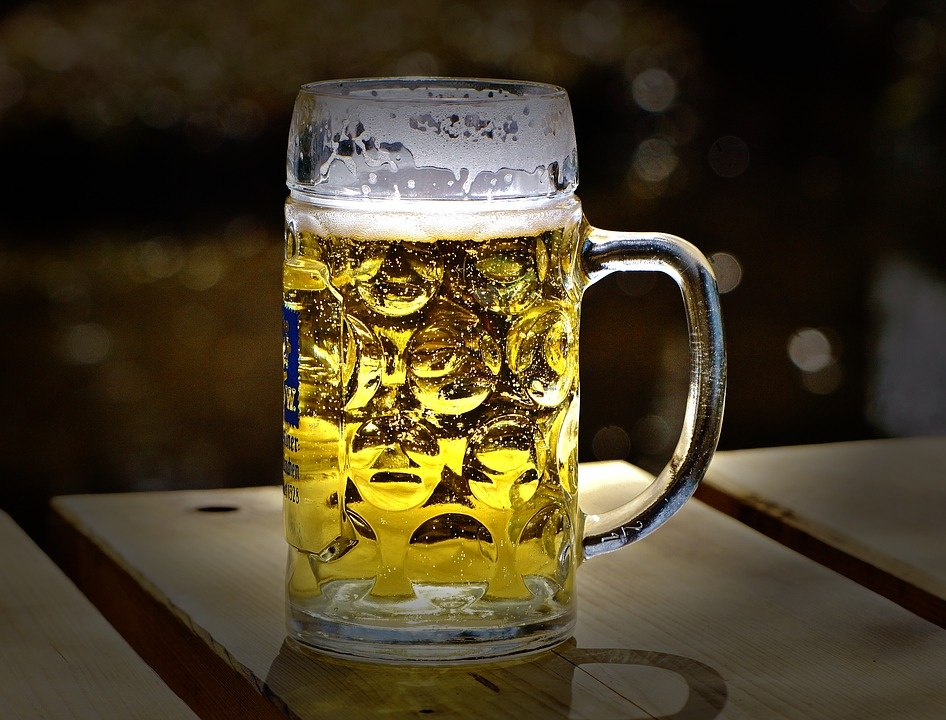glassBeer: (279, 78, 594, 654)
